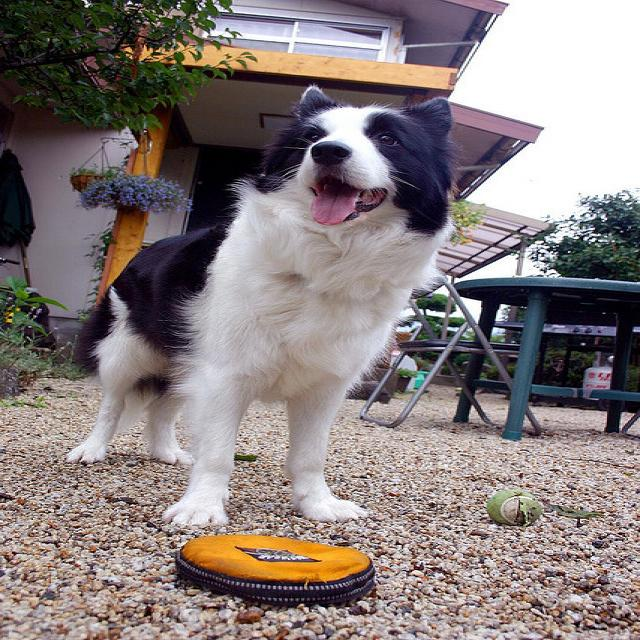chair: (358, 284, 541, 436)
dining table: (451, 281, 640, 444), (453, 277, 640, 422)
